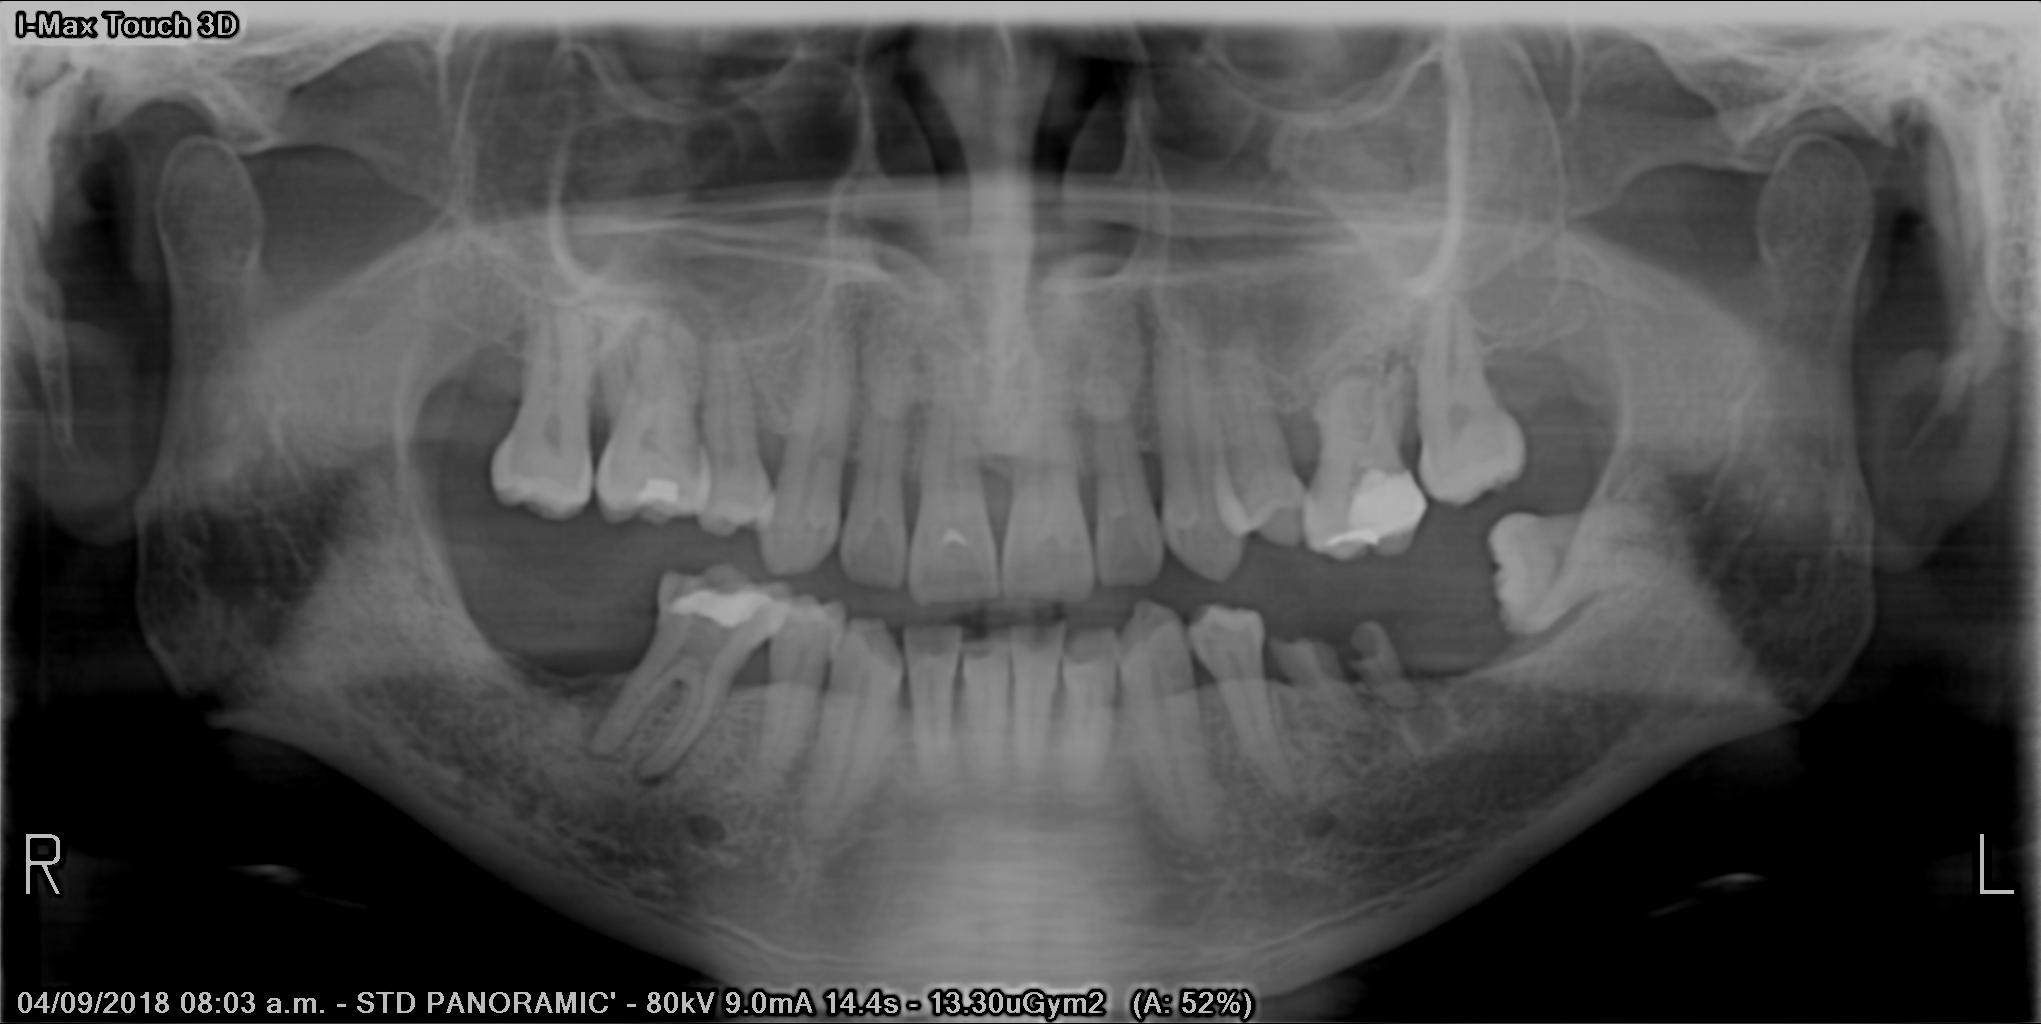Çürük: (1348, 472, 1429, 538), (662, 594, 780, 626), (639, 472, 683, 520)
Çürük Bölgesi: (665, 571, 750, 602), (1331, 462, 1387, 503), (866, 628, 904, 679), (1345, 619, 1375, 675), (962, 640, 996, 662)
